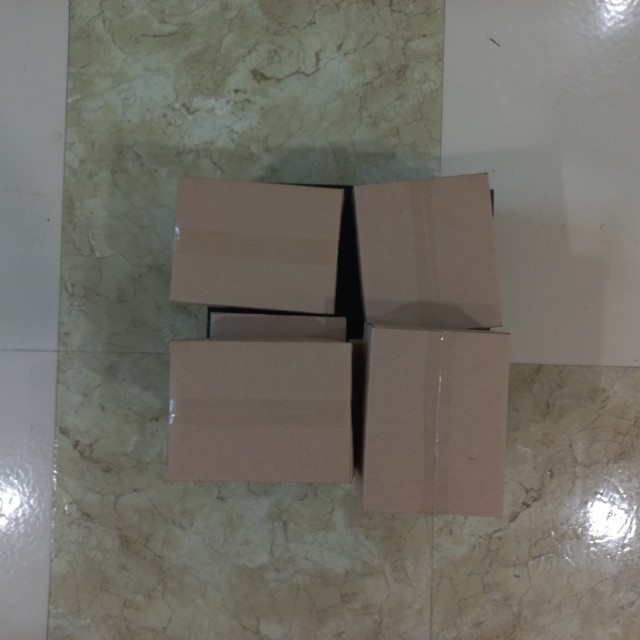box: (176, 120, 290, 310), (293, 152, 436, 303), (300, 324, 436, 466), (182, 309, 296, 468)
